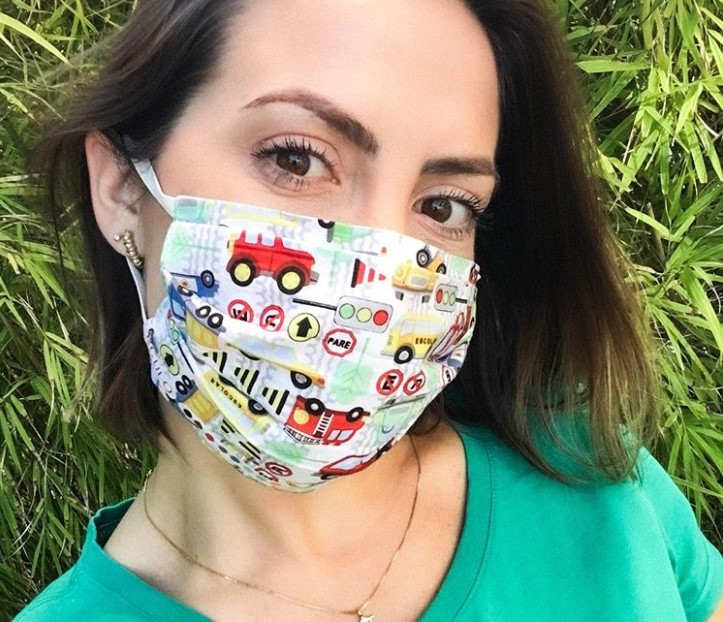face_with_mask: (75, 3, 512, 502)
